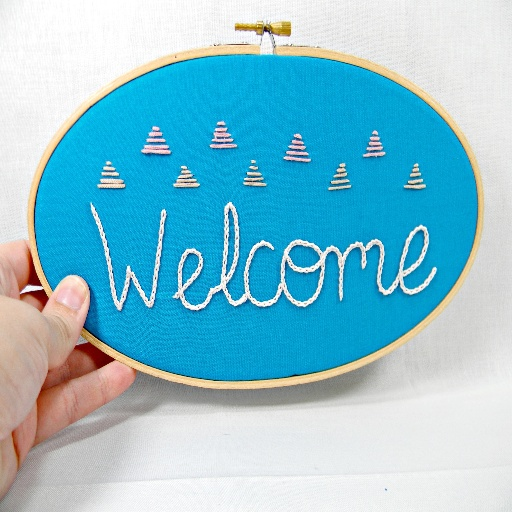hand: (1, 222, 119, 483)
